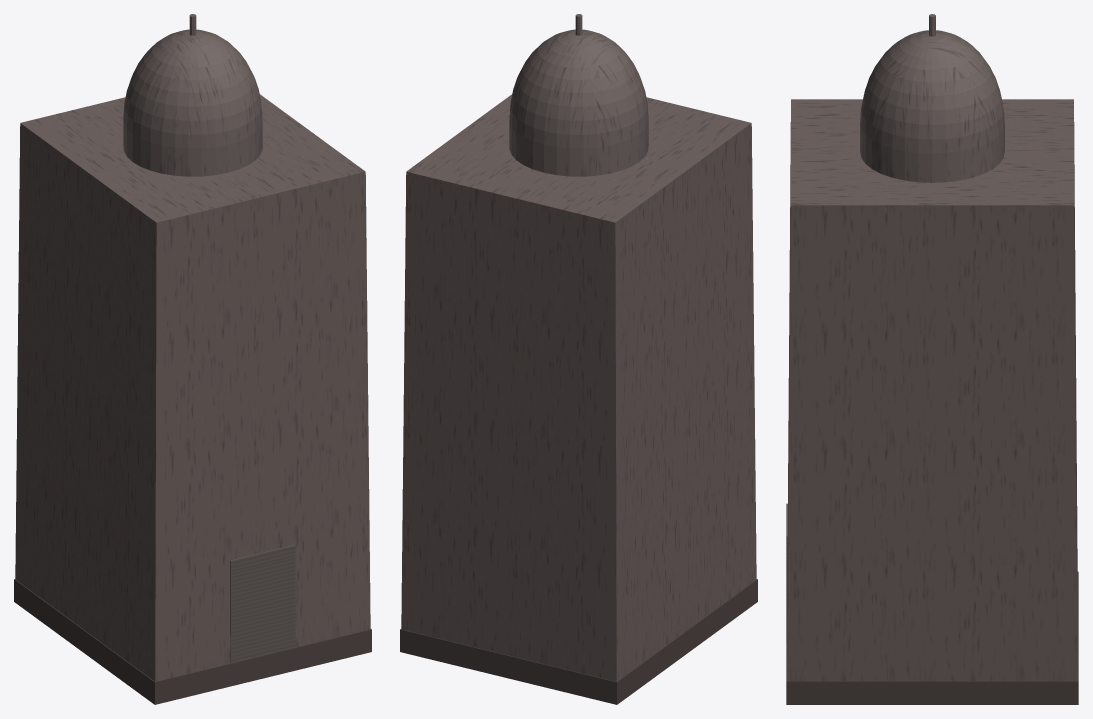
File: SM_Souq_Warehouse_W4D45_Dome.fbx
3 views of the same model, side by side, from view 1: azimuth 30°, elevation 25°; view 2: azimuth 150°, elevation 25°; view 3: azimuth 270°, elevation 25° (orthographic). The views are drawn at different scales.
Parts seen in each view (by area): view 1: SM_Souq_Warehouse_W4D45_Dome; view 2: SM_Souq_Warehouse_W4D45_Dome; view 3: SM_Souq_Warehouse_W4D45_Dome.
Boxes of the visible parts, x1,y1,x2,y2 form: SM_Souq_Warehouse_W4D45_Dome: (14, 14, 371, 704); SM_Souq_Warehouse_W4D45_Dome: (400, 14, 757, 704); SM_Souq_Warehouse_W4D45_Dome: (786, 14, 1078, 704).
Size of the model in its own units: 402 by 1084 by 452.
4 materials, 4 textured.
